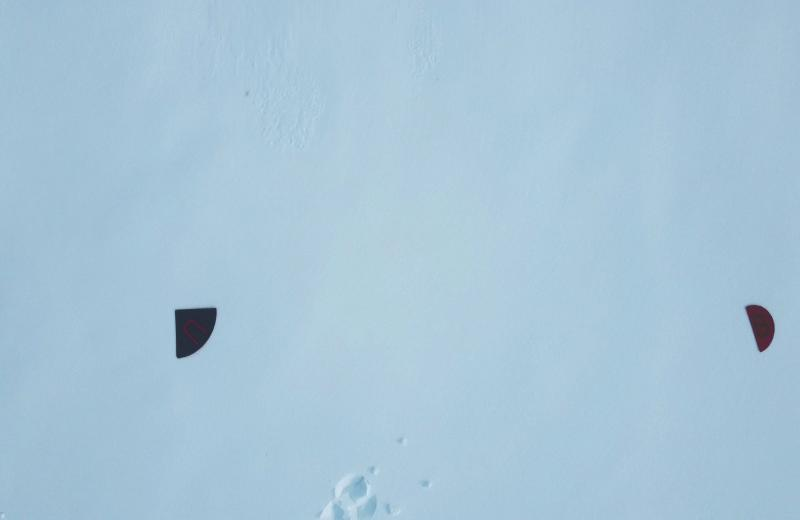Quarter Circle: (174, 305, 220, 358)
Semi Circle: (744, 302, 775, 354)
